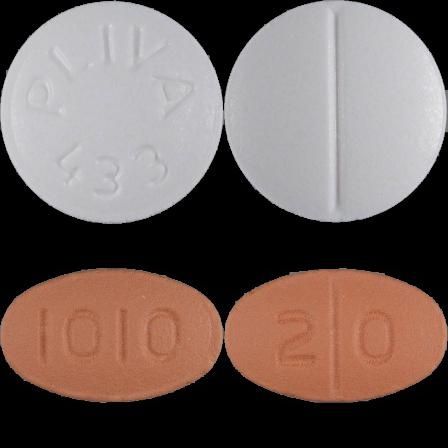66116-402: (0, 0, 224, 224)
